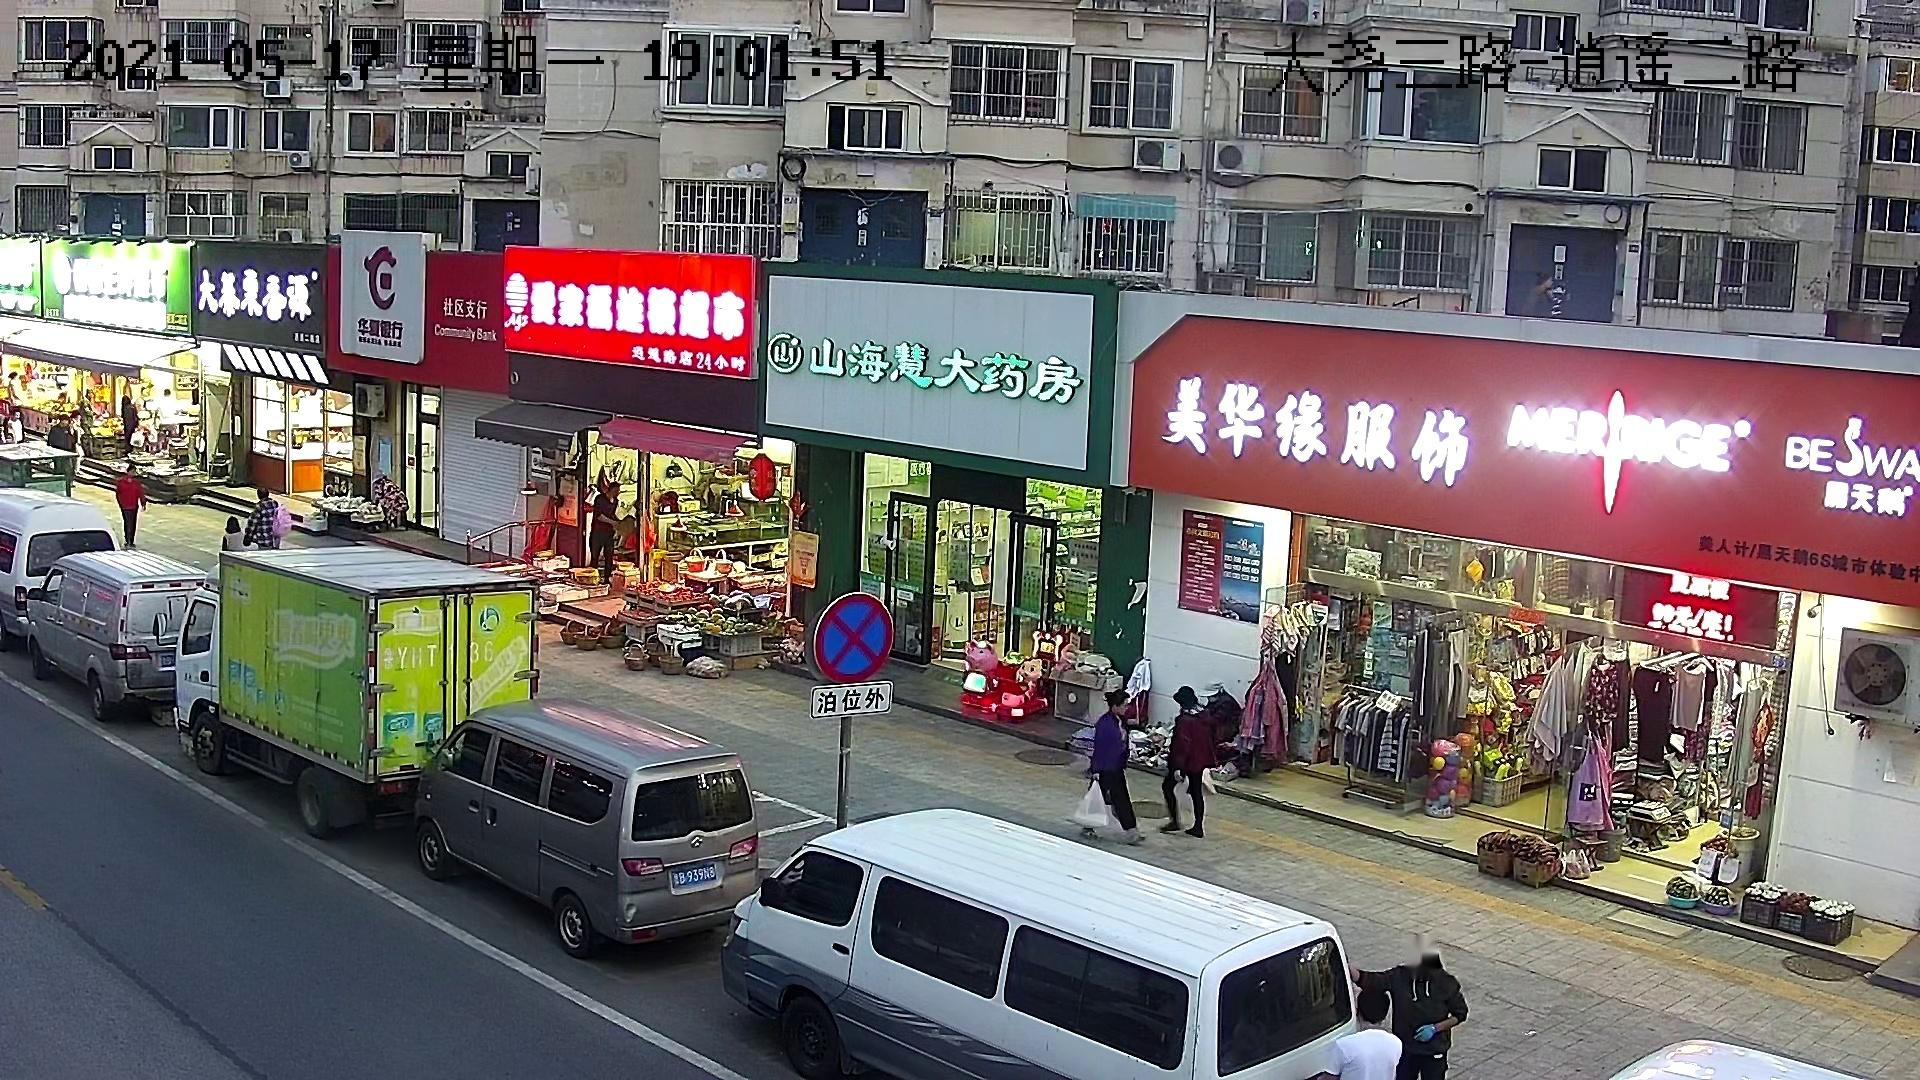chair: (1575, 836, 1604, 876)
